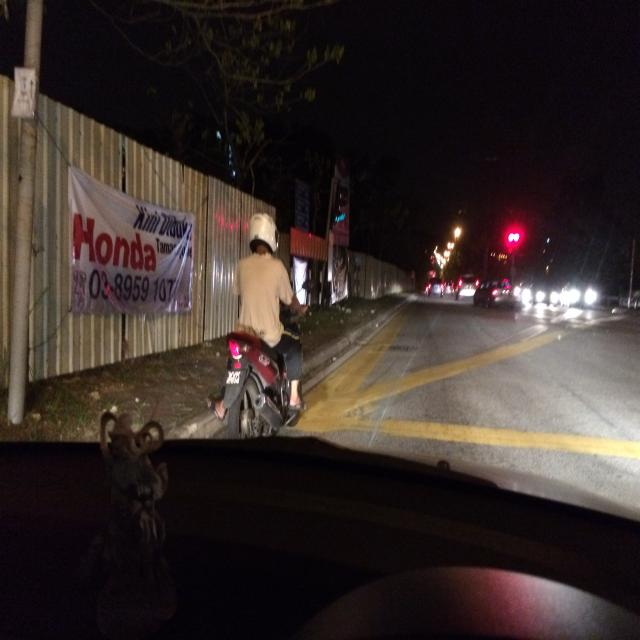Motorbike: (187, 234, 327, 447)
